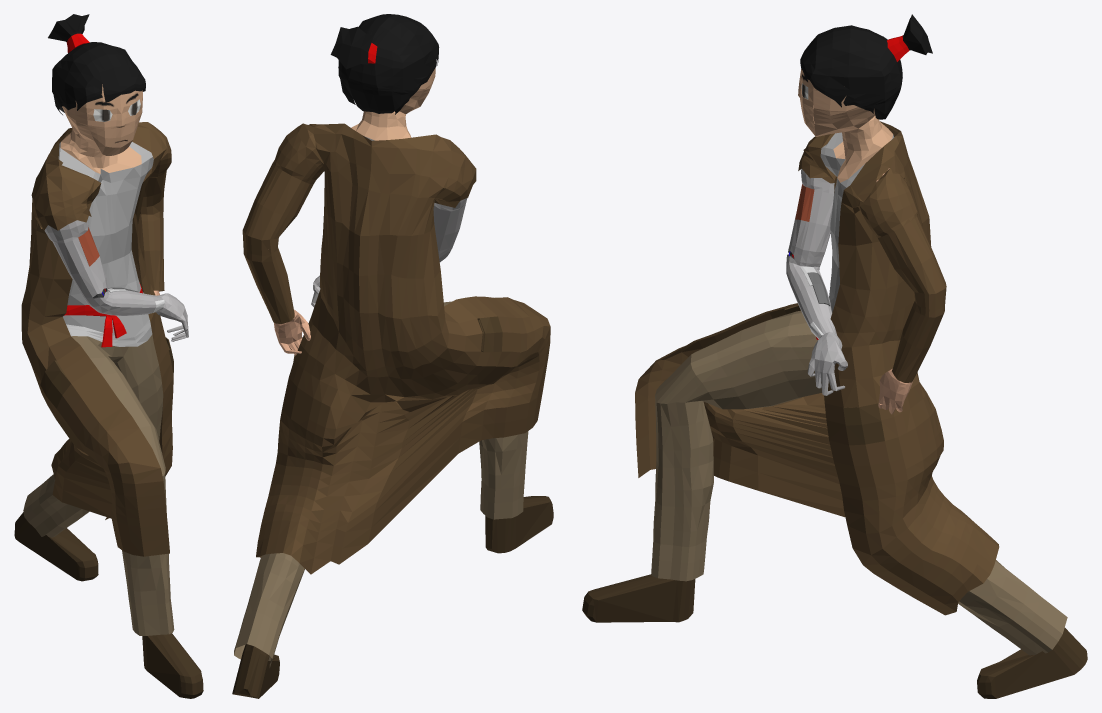
File: One_RB_000000.obj
The picture shows the model from 3 angles, left to right: view 1: azimuth 30°, elevation 25°; view 2: azimuth 150°, elevation 25°; view 3: azimuth 270°, elevation 25°; orthographic projection. The views are drawn at different scales.
Parts seen in each view (by area): view 1: Hair_Cube.004; view 2: Hair_Cube.004; view 3: Hair_Cube.004.
Part boxes in pixels (x1,y1,x2,y2): Hair_Cube.004: (14,14,203,698); Hair_Cube.004: (232,14,553,698); Hair_Cube.004: (582,14,1087,698).
Bounding box in the file's own units: 1.09 × 3.55 × 2.5.
